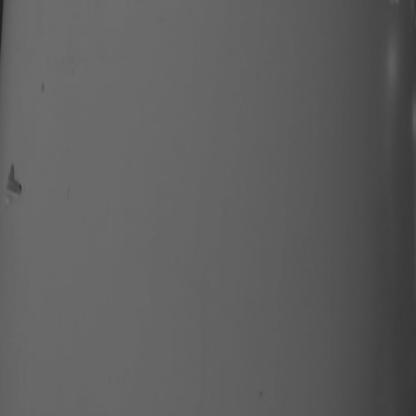kongdong: (4, 166, 38, 200)
